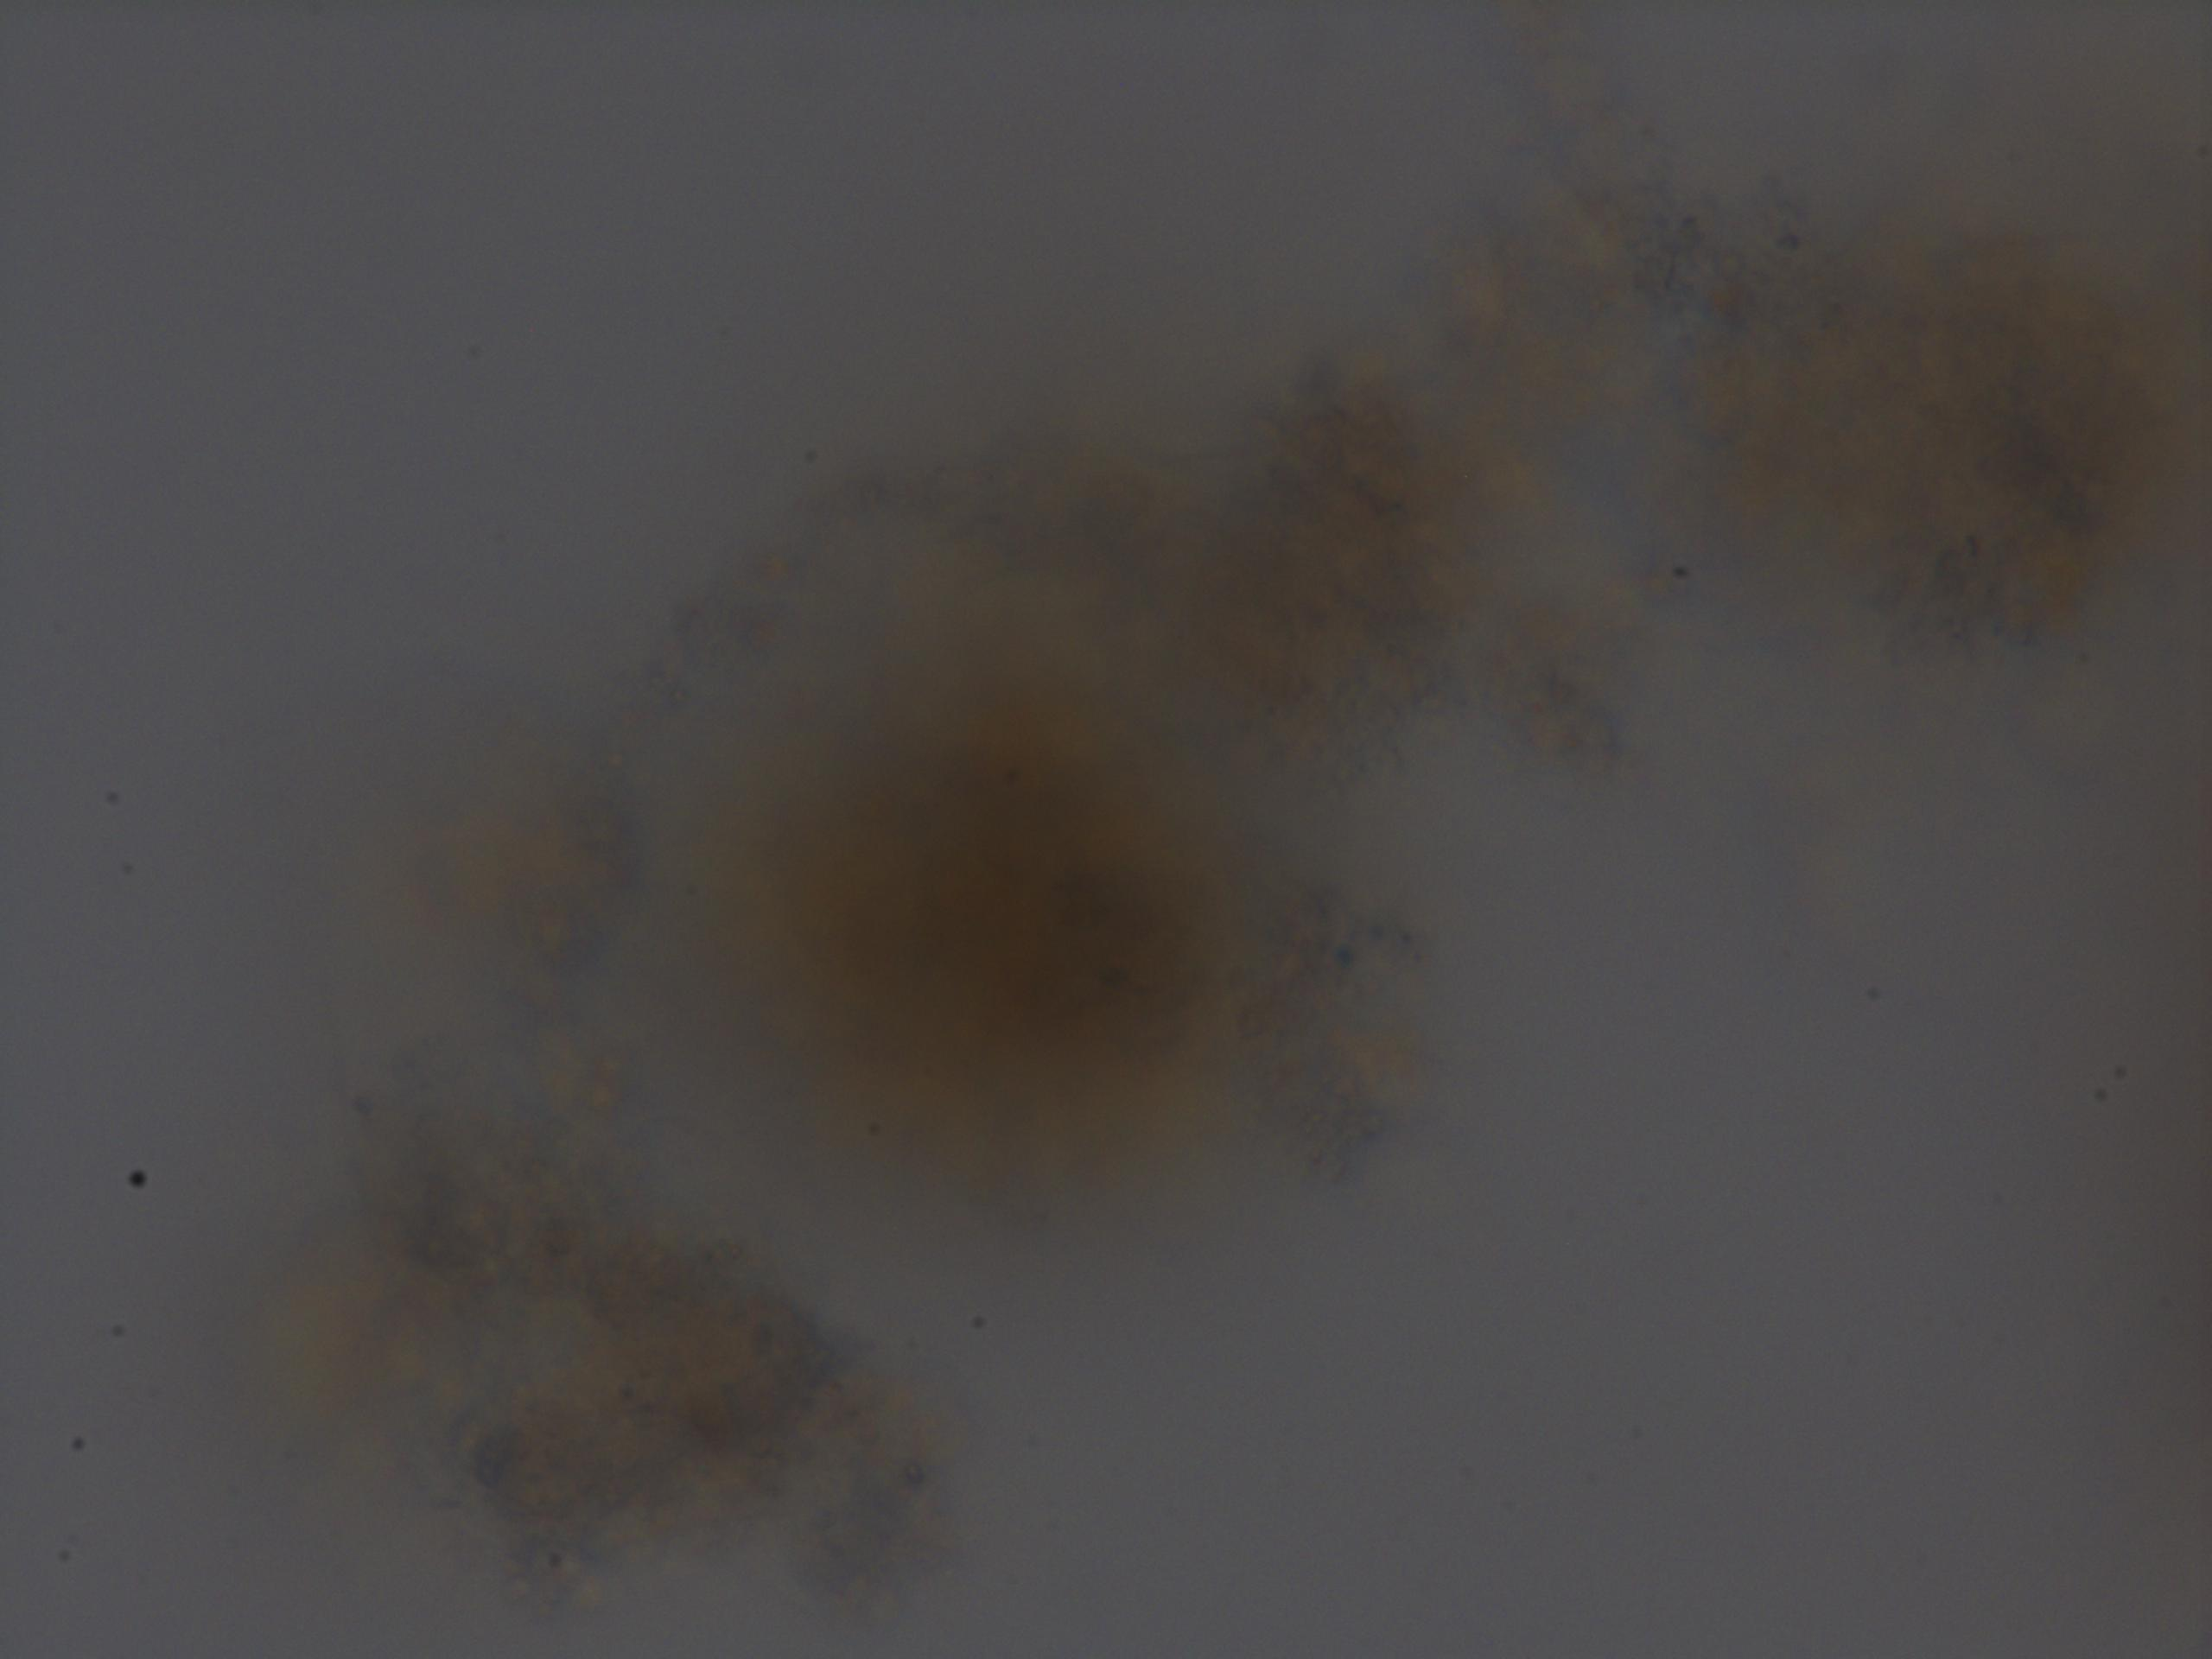open_floc: (251, 169, 2177, 1610)
